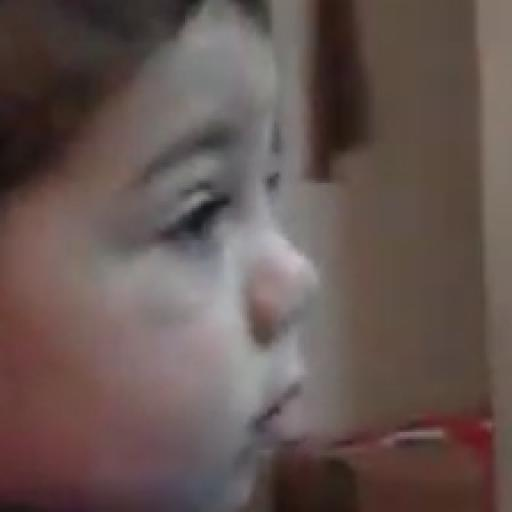Autism: (0, 19, 401, 510)
